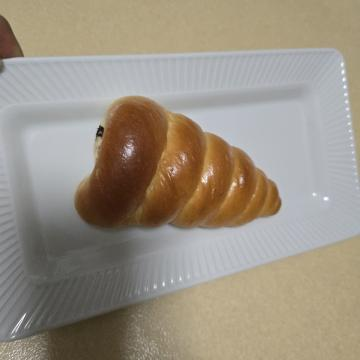cream horn: (80, 67, 258, 299)
